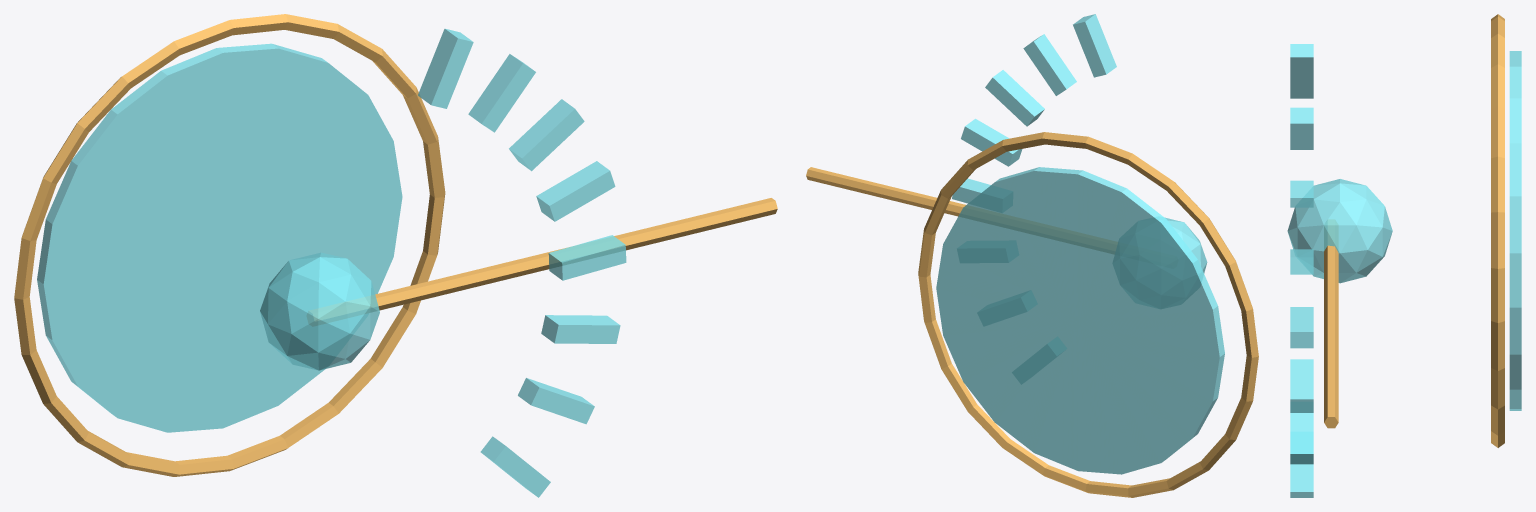
Rendered from 01_class_special_attack_vfx.glb.
The picture shows the model from 3 angles, left to right: view 1: azimuth 30°, elevation 25°; view 2: azimuth 150°, elevation 25°; view 3: azimuth 270°, elevation 25°; orthographic projection. The views are drawn at different scales.
Parts seen in each view (by area): view 1: ability_cast_disc, ability_outer_ring, class_energy_core, tether_line, attack_flow_arc_seg_7, attack_flow_arc_seg_5, attack_flow_arc_seg_6, attack_flow_arc_seg_4, attack_flow_arc_seg_3, attack_flow_arc_seg_2, attack_flow_arc_seg_1, attack_flow_arc_seg_0; view 2: ability_cast_disc, ability_outer_ring, tether_line, attack_flow_arc_seg_7, attack_flow_arc_seg_5, attack_flow_arc_seg_6, attack_flow_arc_seg_4, class_energy_core, attack_flow_arc_seg_3; view 3: class_energy_core, ability_outer_ring, ability_cast_disc, tether_line, attack_flow_arc_seg_7, attack_flow_arc_seg_2, attack_flow_arc_seg_1, attack_flow_arc_seg_6, attack_flow_arc_seg_3, attack_flow_arc_seg_0, attack_flow_arc_seg_5, attack_flow_arc_seg_4.
Boxes of the visible parts, x1,y1,x2,y2 form: ability_cast_disc: (37, 43, 402, 432); ability_outer_ring: (14, 14, 445, 476); class_energy_core: (260, 252, 379, 370); tether_line: (307, 198, 777, 325); attack_flow_arc_seg_7: (418, 28, 473, 108); attack_flow_arc_seg_5: (509, 99, 584, 171); attack_flow_arc_seg_6: (468, 54, 535, 132); attack_flow_arc_seg_4: (536, 161, 615, 221); attack_flow_arc_seg_3: (548, 235, 626, 280); attack_flow_arc_seg_2: (541, 315, 620, 343); attack_flow_arc_seg_1: (518, 378, 594, 424); attack_flow_arc_seg_0: (480, 436, 550, 497); ability_cast_disc: (936, 167, 1224, 474); ability_outer_ring: (918, 132, 1258, 497); tether_line: (806, 167, 1117, 253); attack_flow_arc_seg_7: (1073, 14, 1116, 77); attack_flow_arc_seg_5: (985, 70, 1044, 126); attack_flow_arc_seg_6: (1023, 34, 1076, 95); attack_flow_arc_seg_4: (961, 118, 1022, 166); class_energy_core: (1164, 217, 1207, 273); attack_flow_arc_seg_3: (952, 178, 991, 203); class_energy_core: (1287, 179, 1392, 283); ability_outer_ring: (1491, 14, 1504, 447); ability_cast_disc: (1509, 51, 1521, 410); tether_line: (1324, 220, 1338, 428); attack_flow_arc_seg_7: (1290, 44, 1313, 98); attack_flow_arc_seg_2: (1290, 359, 1313, 412); attack_flow_arc_seg_1: (1290, 413, 1313, 464); attack_flow_arc_seg_6: (1290, 107, 1313, 149); attack_flow_arc_seg_3: (1290, 307, 1313, 348); attack_flow_arc_seg_0: (1290, 464, 1313, 497); attack_flow_arc_seg_5: (1290, 180, 1313, 207); attack_flow_arc_seg_4: (1290, 249, 1313, 274).
Bounding box in the file's own units: 2.29 × 1.63 × 0.8.
